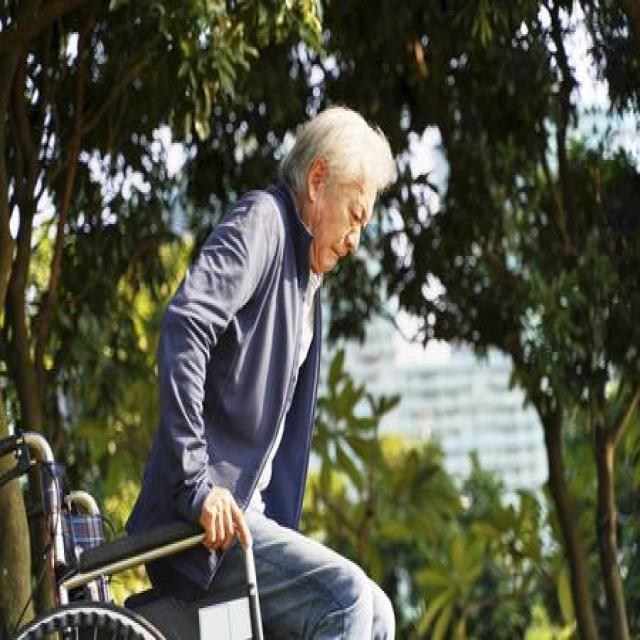wheelchairs: (0, 420, 297, 640)
